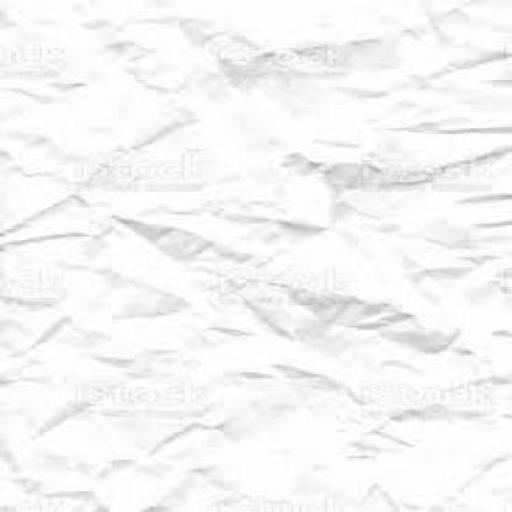paper: (0, 0, 510, 511)
